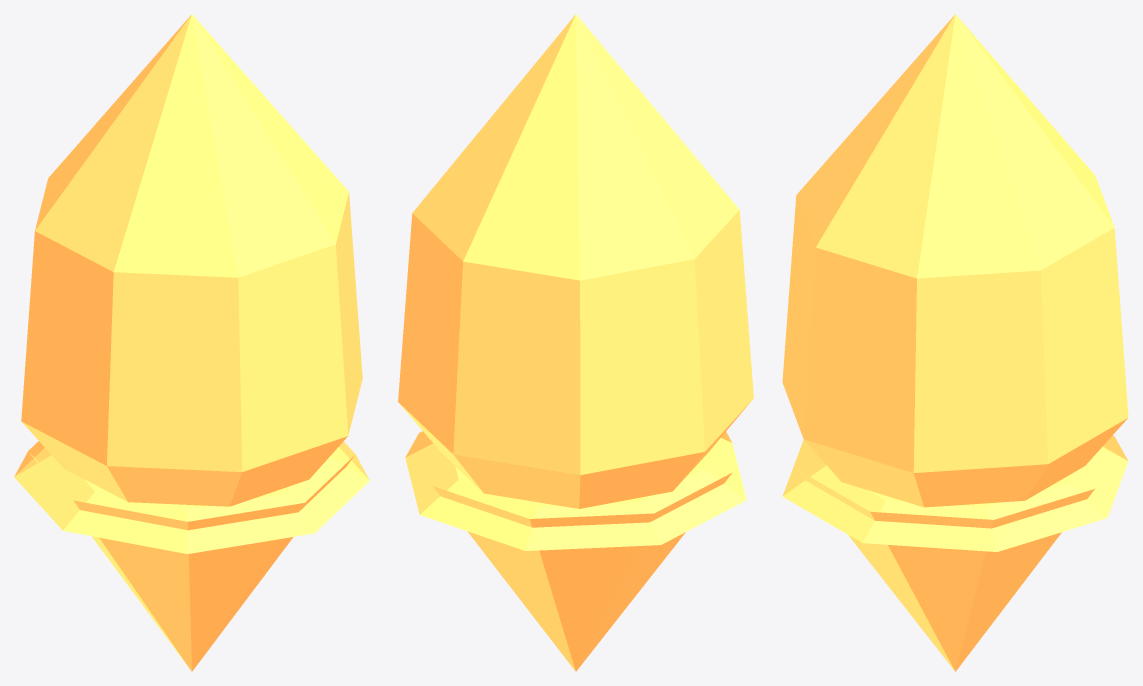
Rendered from meteor_shard.glb.
3 renders of one model, left to right at view 1: azimuth 30°, elevation 25°; view 2: azimuth 150°, elevation 25°; view 3: azimuth 270°, elevation 25°, orthographic.
Parts seen in each view (by area): view 1: meteor_shard; view 2: meteor_shard; view 3: meteor_shard.
Boxes of the visible parts, box(x1,y1,x2,y2) form: meteor_shard: box(14, 14, 369, 671); meteor_shard: box(398, 14, 753, 671); meteor_shard: box(782, 14, 1128, 671).
Size of the model in its own units: 0.3953 by 0.8292 by 0.3953.
